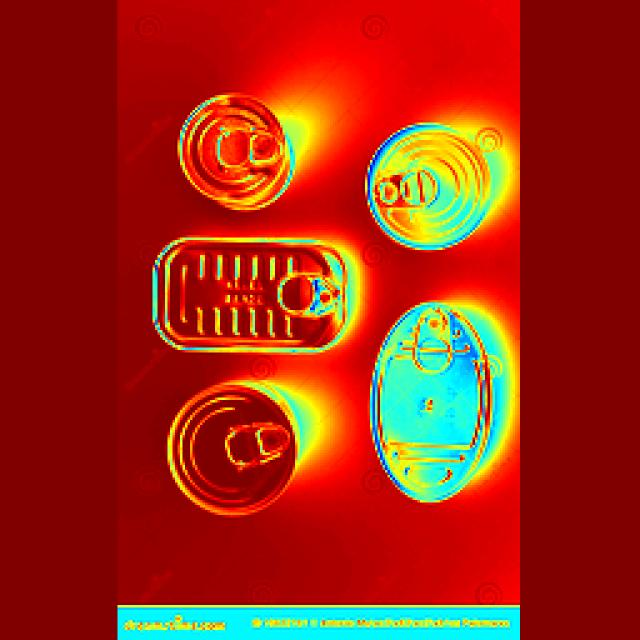Aluminium Food Cans: (171, 56, 500, 377)
